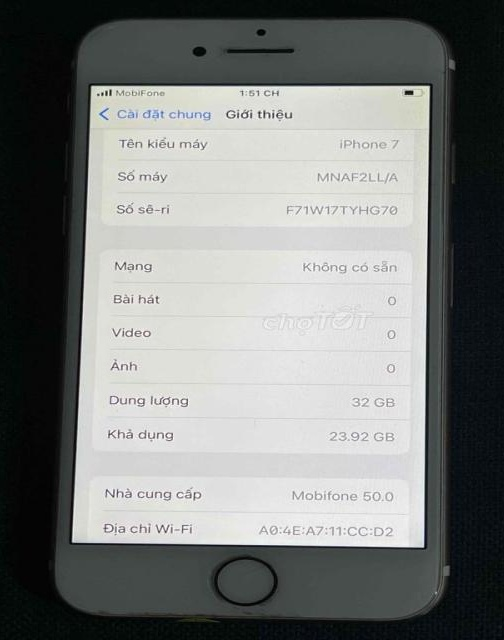scratch: (199, 550, 283, 605), (78, 607, 346, 623), (394, 16, 454, 81), (75, 16, 189, 44), (214, 39, 311, 63)
